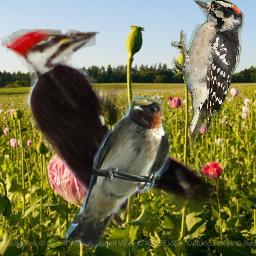Swallow: (63, 95, 171, 249)
Woodpecker: (1, 29, 231, 228), (171, 0, 245, 152)
